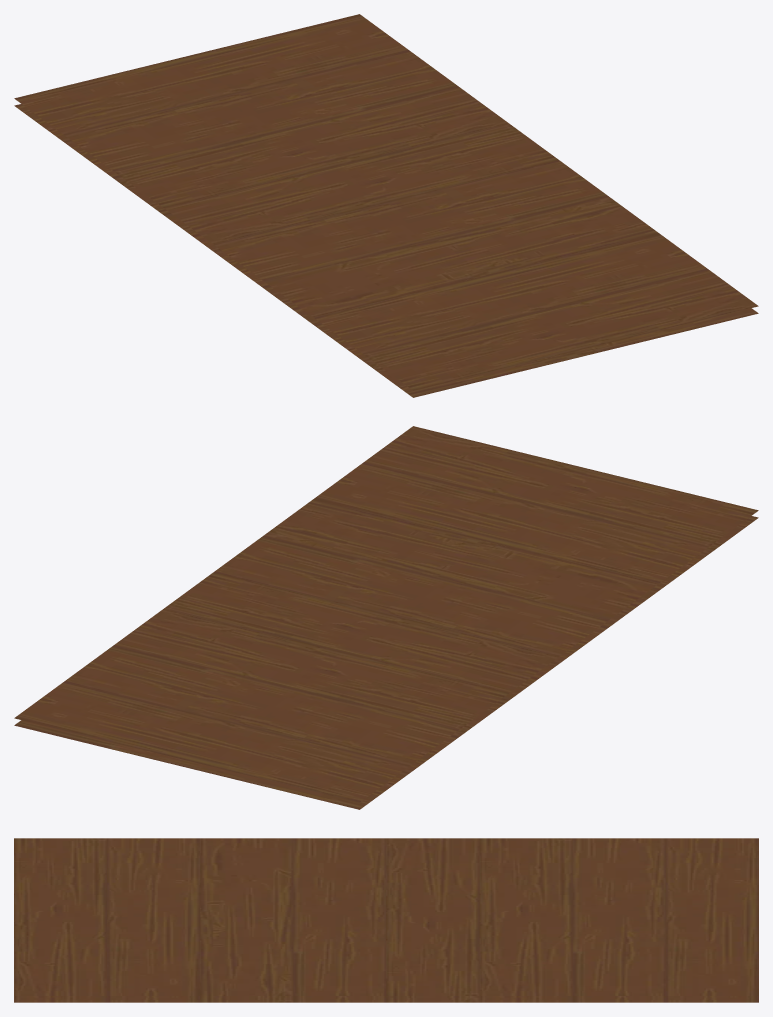
The model's file is floor_wooddark_half1.glb.
3 renders of one model, top to bottom at view 1: azimuth 30°, elevation 25°; view 2: azimuth 150°, elevation 25°; view 3: azimuth 270°, elevation 25°, orthographic. The views are drawn at different scales.
Bounding box in the file's own units: 1 × 0.02 × 2.
Materials: 1 (1 with a texture image).
